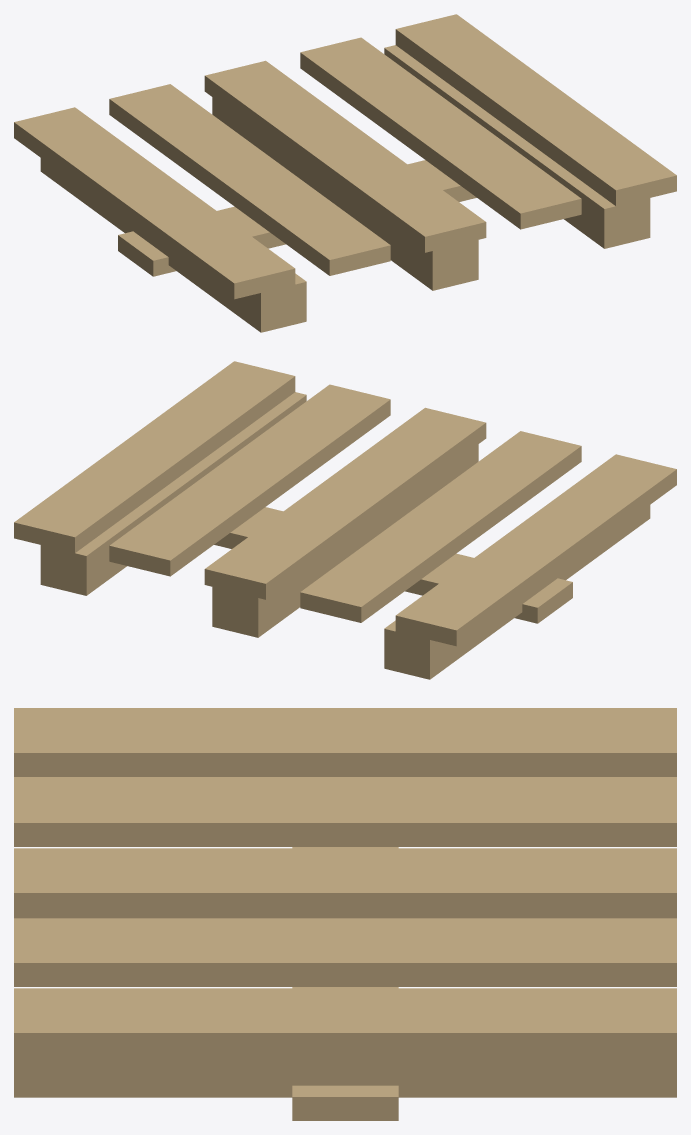
Rendered from Pallet.glb.
3 renders of one model, top to bottom at view 1: azimuth 30°, elevation 25°; view 2: azimuth 150°, elevation 25°; view 3: azimuth 270°, elevation 25°, orthographic. The views are drawn at different scales.
Parts seen in each view (by area): view 1: TopSlat_0, TopSlat_0.25, TopSlat_-0.25, TopSlat_-0.5, TopSlat_0.5, Block_0.45, Block_0, Block_-0.45, BottomSlat; view 2: TopSlat_0, TopSlat_0.25, TopSlat_-0.25, TopSlat_-0.5, TopSlat_0.5, Block_0.45, Block_0, Block_-0.45, BottomSlat; view 3: TopSlat_0.5, TopSlat_-0.25, TopSlat_-0.5, TopSlat_0, TopSlat_0.25, Block_0.45, BottomSlat, Block_-0.45, Block_0.
Boxes of the visible parts, bbox=[...] form: TopSlat_0: bbox=[204, 60, 486, 252]; TopSlat_0.25: bbox=[300, 37, 581, 229]; TopSlat_-0.25: bbox=[109, 84, 390, 275]; TopSlat_-0.5: bbox=[14, 107, 295, 299]; TopSlat_0.5: bbox=[395, 14, 676, 206]; Block_0.45: bbox=[384, 45, 650, 248]; Block_0: bbox=[212, 97, 478, 290]; Block_-0.45: bbox=[40, 158, 306, 332]; BottomSlat: bbox=[118, 160, 476, 276]; TopSlat_0: bbox=[204, 407, 486, 599]; TopSlat_0.25: bbox=[109, 384, 390, 576]; TopSlat_-0.25: bbox=[300, 431, 581, 622]; TopSlat_-0.5: bbox=[395, 454, 676, 646]; TopSlat_0.5: bbox=[14, 361, 295, 553]; Block_0.45: bbox=[40, 392, 306, 595]; Block_0: bbox=[212, 444, 478, 637]; Block_-0.45: bbox=[384, 505, 650, 679]; BottomSlat: bbox=[214, 507, 572, 623]; TopSlat_0.5: bbox=[14, 988, 676, 1057]; TopSlat_-0.25: bbox=[14, 778, 676, 846]; TopSlat_-0.5: bbox=[14, 708, 676, 776]; TopSlat_0: bbox=[14, 848, 676, 916]; TopSlat_0.25: bbox=[14, 918, 676, 986]; Block_0.45: bbox=[14, 1057, 676, 1097]; BottomSlat: bbox=[292, 847, 398, 1120]; Block_-0.45: bbox=[14, 777, 676, 778]; Block_0: bbox=[14, 917, 676, 918].
Size of the model in its own units: 1.16 by 0.16 by 1.
